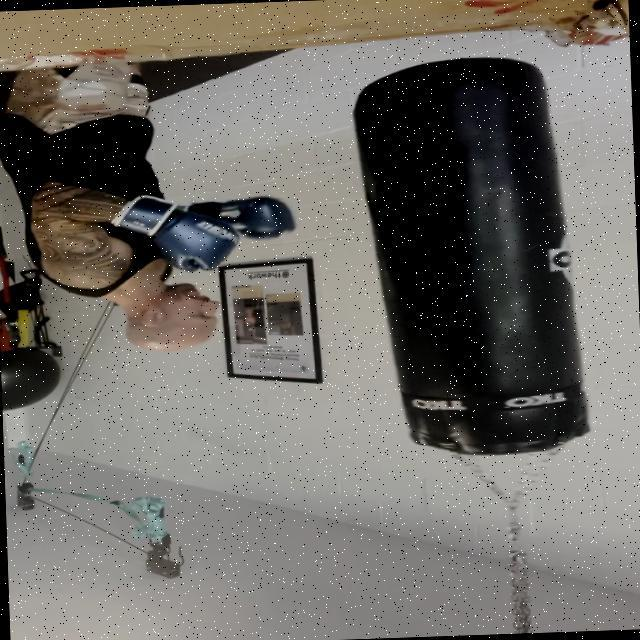bag: (338, 54, 612, 464)
